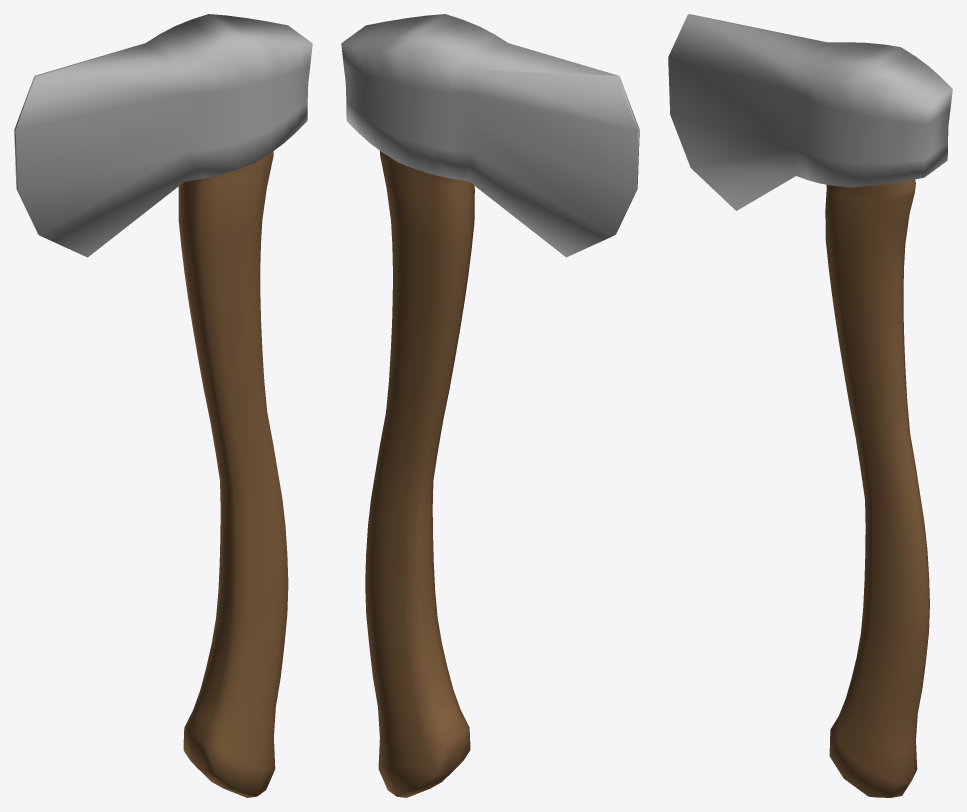
The model's file is AxeSeperated_LowPoly.fbx.
3 views of the same model, side by side, from view 1: azimuth 30°, elevation 25°; view 2: azimuth 150°, elevation 25°; view 3: azimuth 330°, elevation 25° (orthographic). The views are drawn at different scales.
Parts seen in each view (by area): view 1: AxeMetal, AxeHandle; view 2: AxeMetal, AxeHandle; view 3: AxeHandle, AxeMetal.
Part boxes in pixels (box(x1,y1,x2,y2)): AxeMetal: box(14, 14, 312, 257); AxeHandle: box(178, 151, 288, 797); AxeMetal: box(341, 14, 639, 257); AxeHandle: box(365, 151, 474, 797); AxeHandle: box(825, 179, 929, 797); AxeMetal: box(668, 14, 952, 210).
Size of the model in its own units: 184 by 475 by 56.47.
